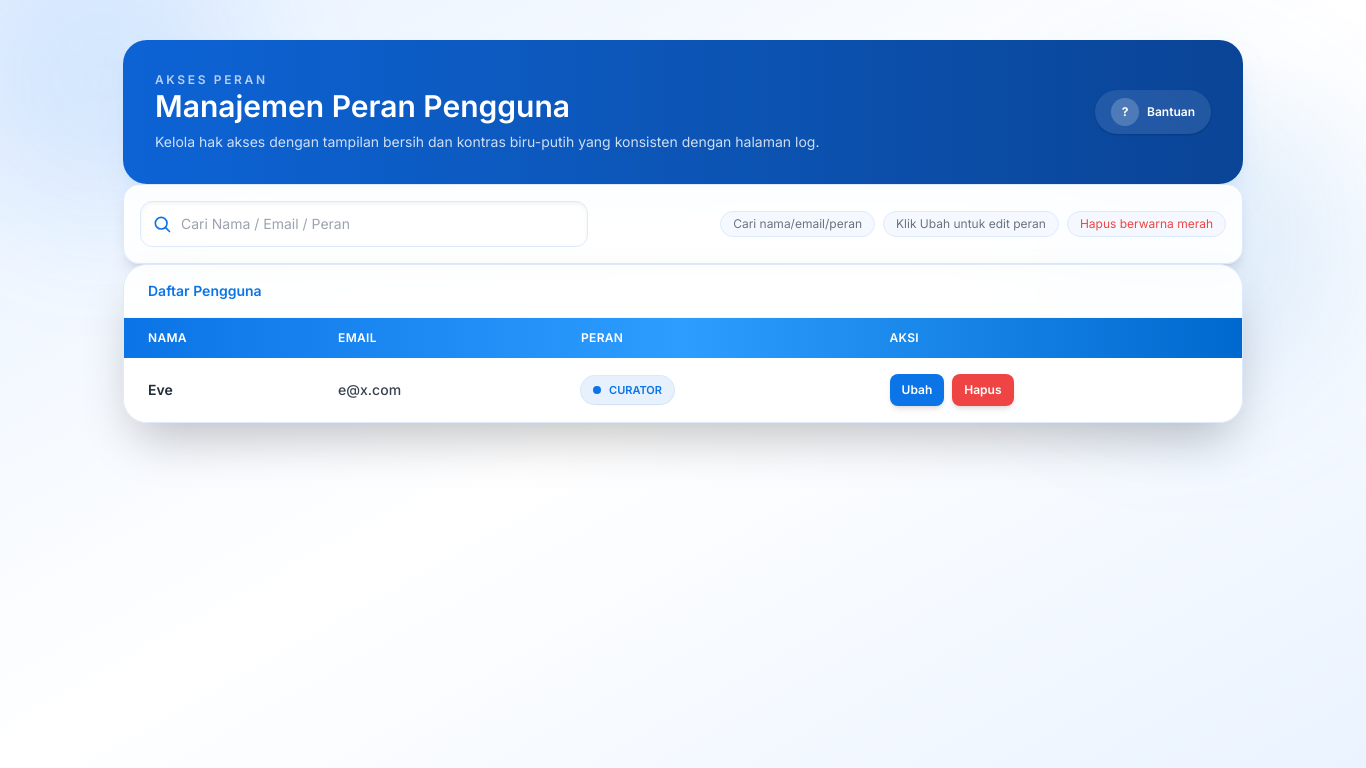
Test: Admin role management - coverage targets › confirm modal performs delete and shows success toast
Check: the text "Eve" is shown, box [148,381,173,398]
Click the button "Hapus". click: click(983, 390)
box: [952,374,1014,406]
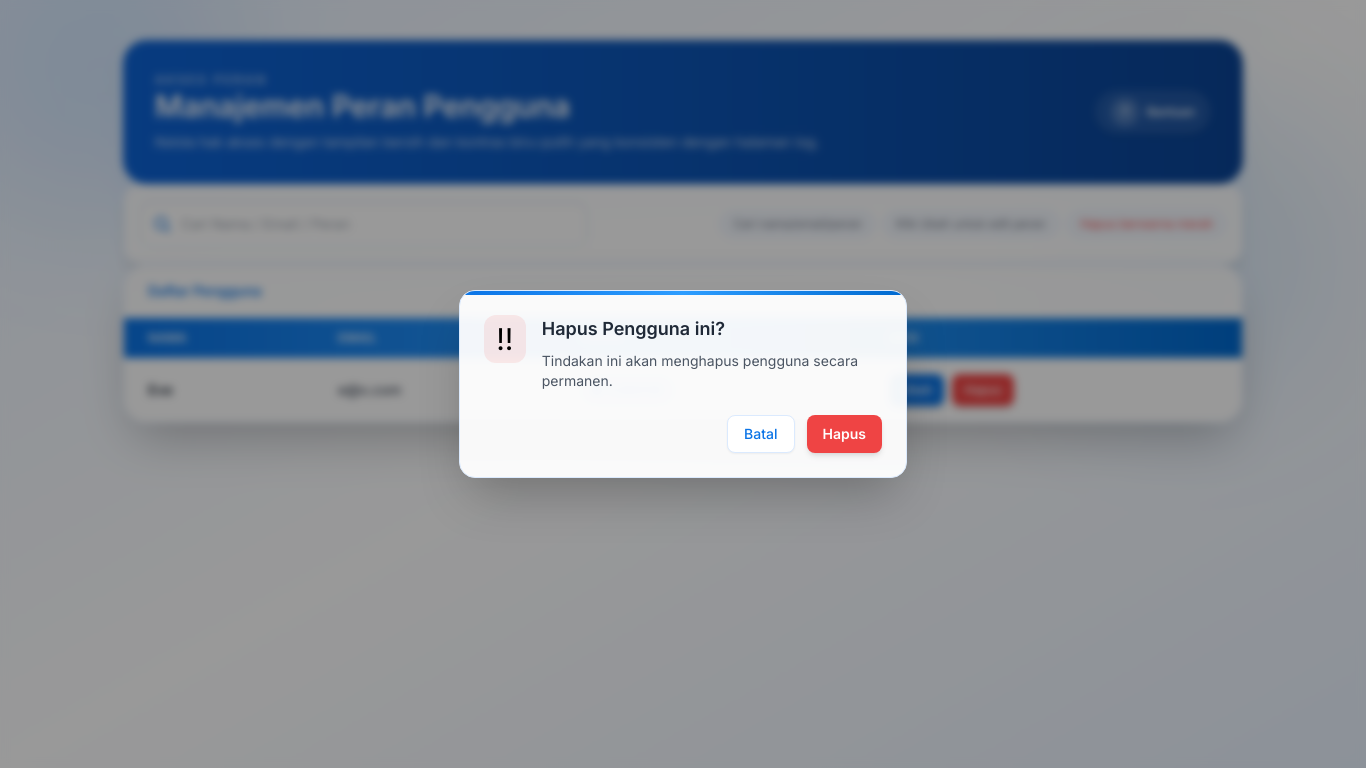
Check: the heading "Hapus Pengguna ini?" is shown, box [542,318,725,339]
Note: click confirm
Click the button "Hapus". click: click(844, 434)
box: [806,415,882,453]
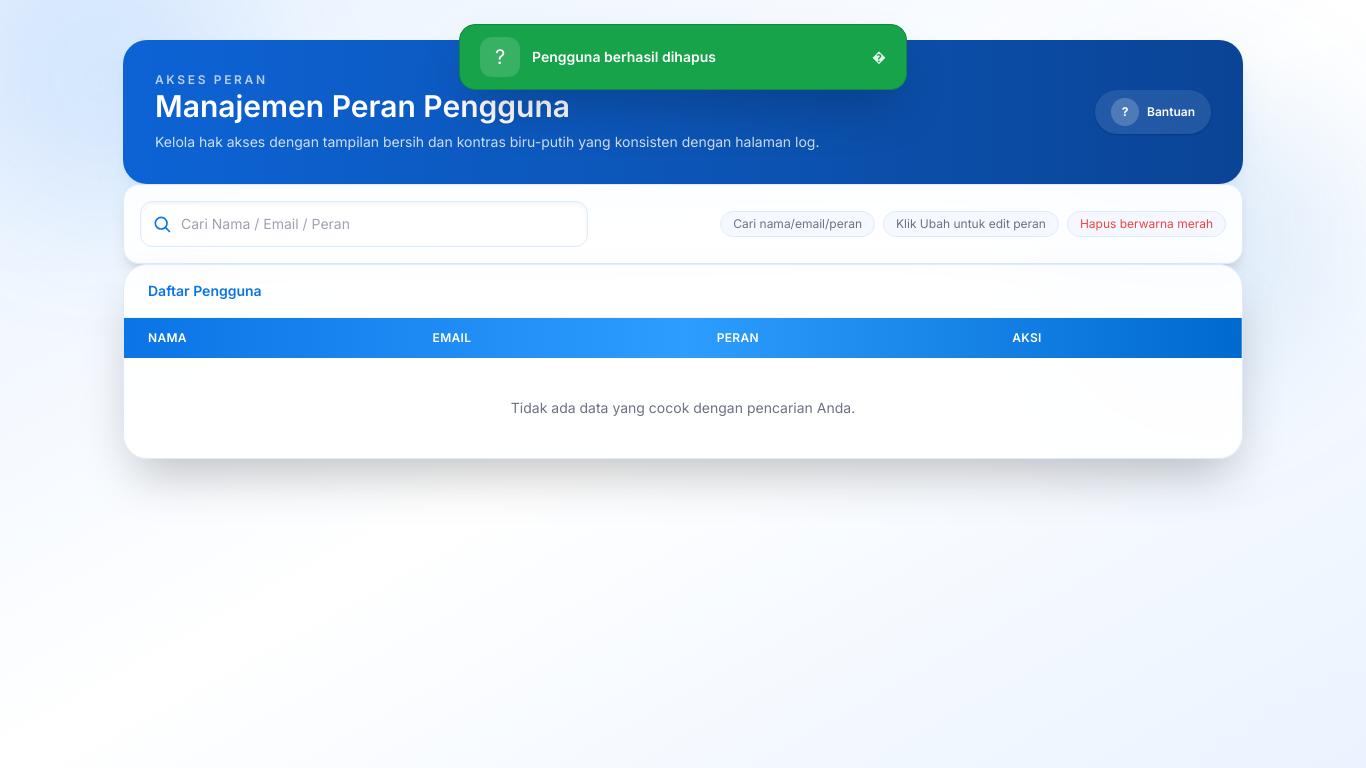
Check: the text "Pengguna berhasil dihapus" is shown, box [532,48,716,65]
Check: the text "Eve" is gone
